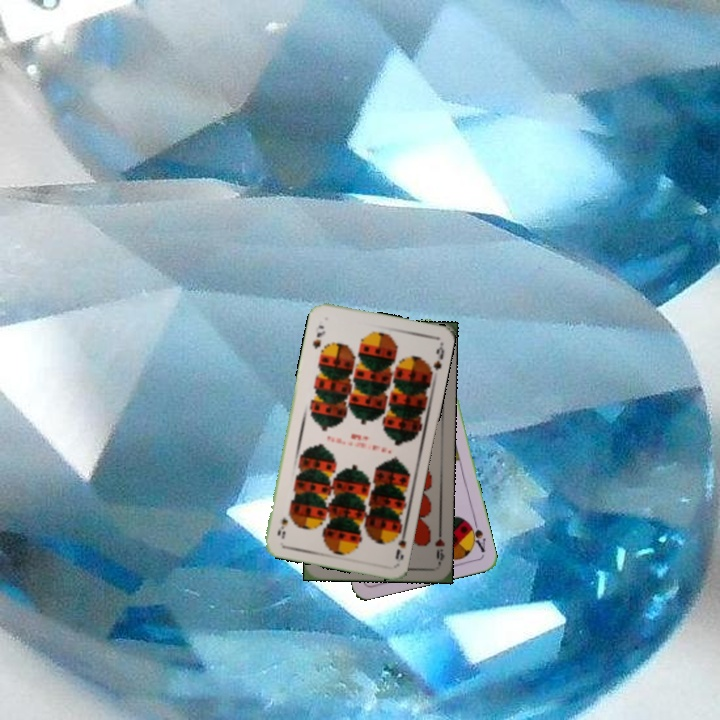H9: (431, 526, 447, 566)
S9: (391, 524, 409, 563), (308, 321, 328, 351)
SA: (464, 516, 489, 555)
